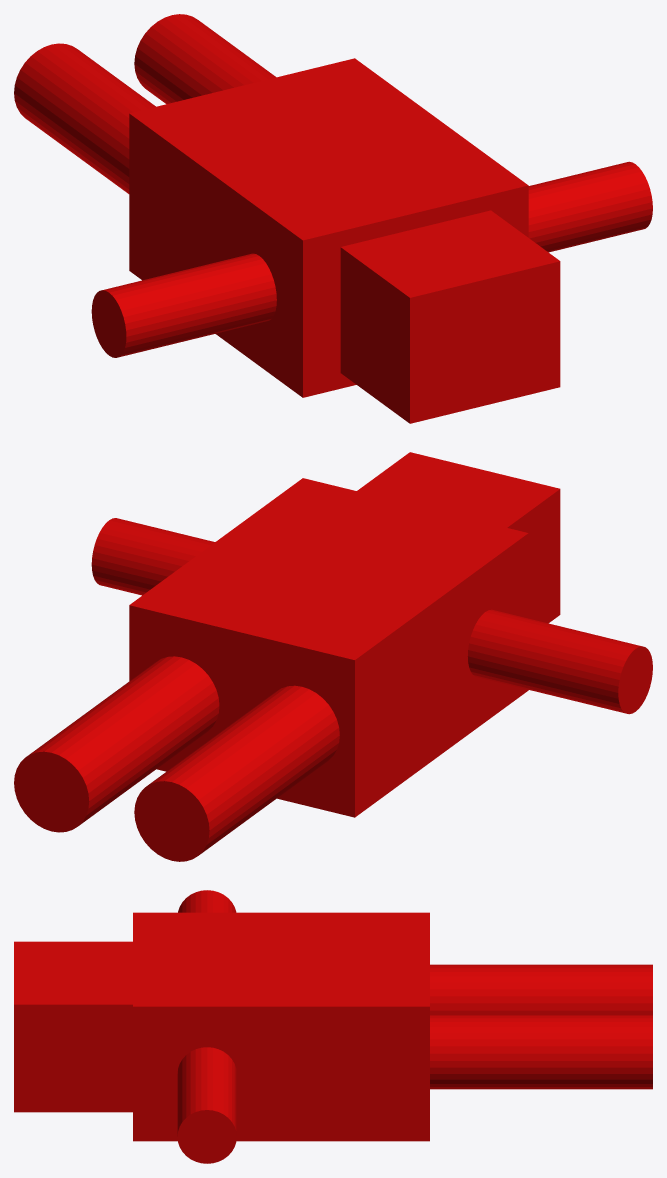
The model's file is model_aedac3f40541.glb.
3 renders of one model, top to bottom at view 1: azimuth 30°, elevation 25°; view 2: azimuth 150°, elevation 25°; view 3: azimuth 270°, elevation 25°, orthographic. The views are drawn at different scales.
Visible parts, largest first — view 1: world; view 2: world; view 3: world.
Part boxes in pixels (left/top/right/bottom): world: left=14, top=14, right=652, bottom=423; world: left=14, top=452, right=652, bottom=861; world: left=14, top=890, right=652, bottom=1163.
Size of the model in its own units: 3.5 by 1 by 4.3.
